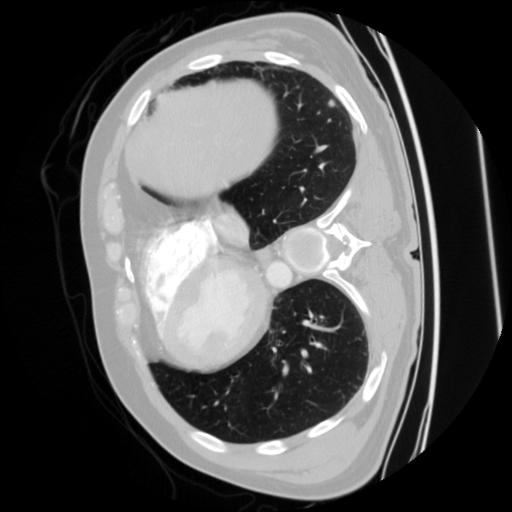nodule: (325, 95, 339, 109)
